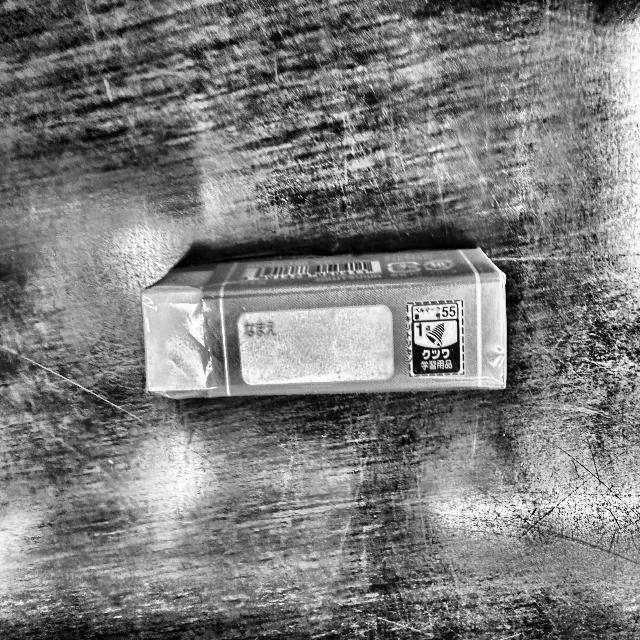eraser: (109, 237, 532, 424)
